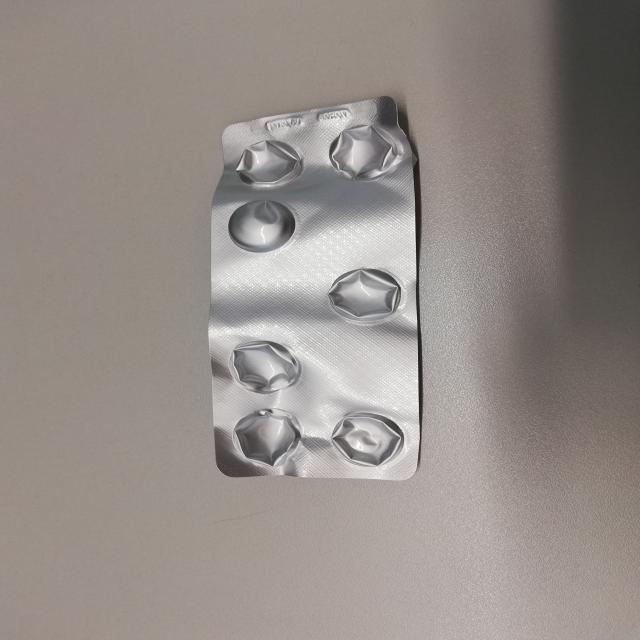Empty: (228, 407, 306, 469), (325, 265, 405, 325), (325, 124, 407, 181), (226, 338, 303, 396), (328, 411, 405, 468), (233, 138, 305, 188)
Pill: (224, 196, 298, 255)
